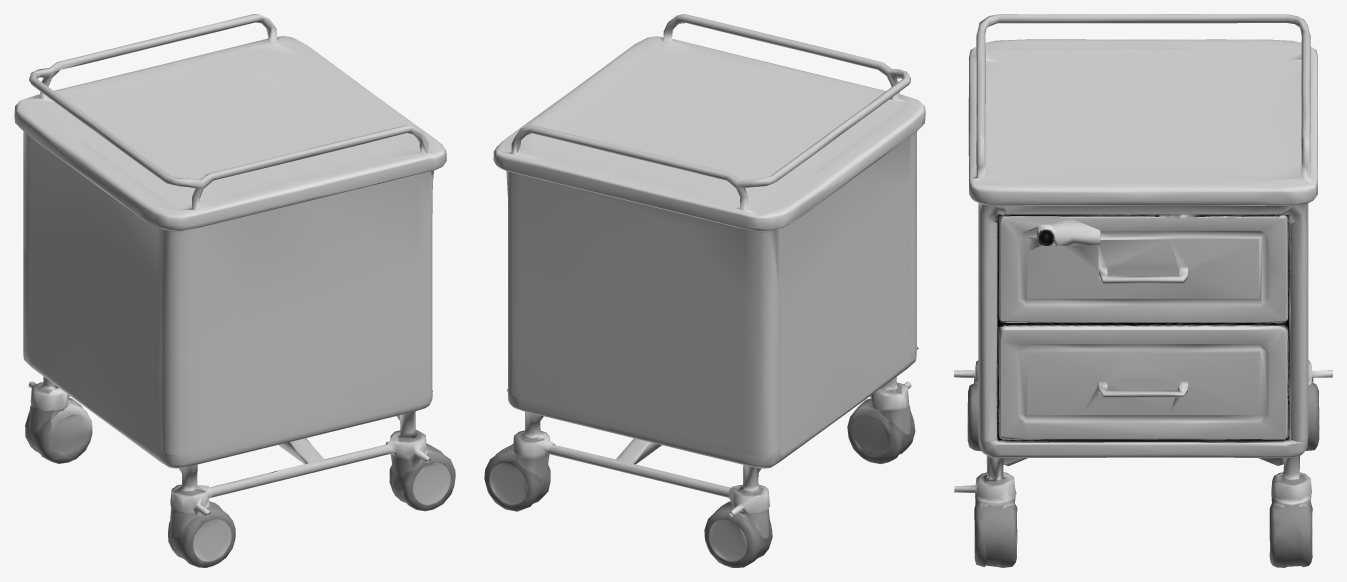
Rendered from mesaDeNocheHospital.fbx.
3 views of the same model, side by side, from view 1: azimuth 30°, elevation 25°; view 2: azimuth 150°, elevation 25°; view 3: azimuth 270°, elevation 25° (orthographic). The views are drawn at different scales.
Parts seen in each view (by area): view 1: tripo_node_4951ce9d; view 2: tripo_node_4951ce9d; view 3: tripo_node_4951ce9d.
Part boxes in pixels (x1,y1,x2,y2): tripo_node_4951ce9d: (14, 14, 455, 567); tripo_node_4951ce9d: (484, 14, 925, 567); tripo_node_4951ce9d: (954, 14, 1332, 567).
Size of the model in its own units: 0.8035 by 1 by 0.8181.
Materials: 1 (1 with a texture image).
